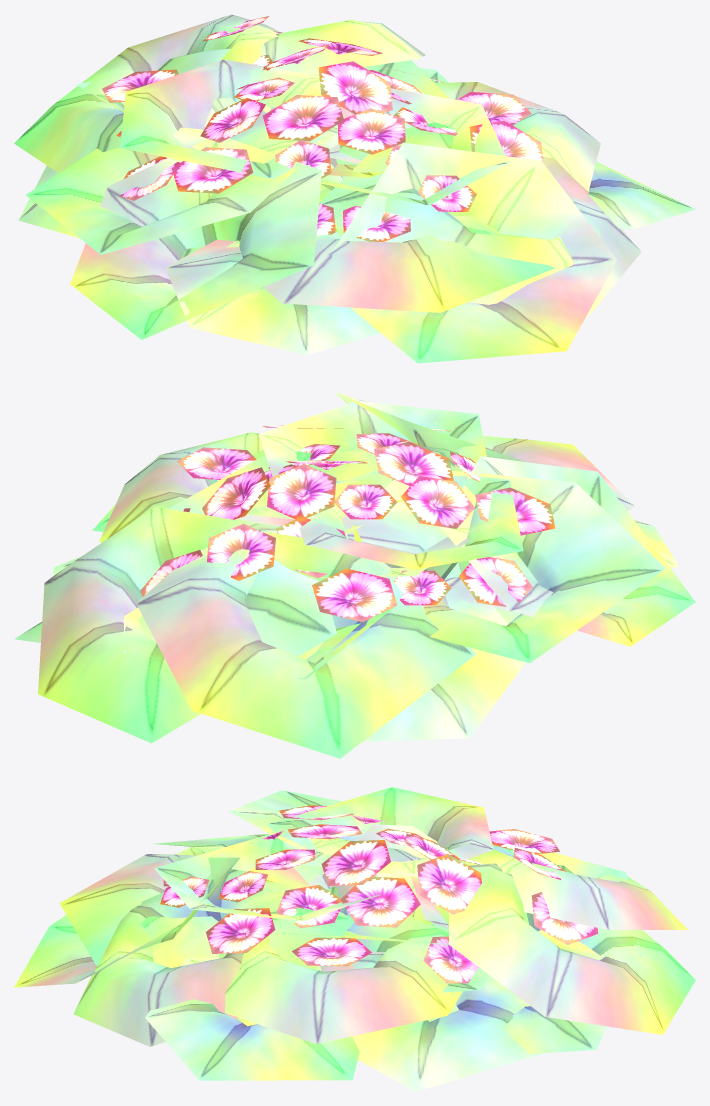
The model's file is dianthus_large_SM.fbx.
The picture shows the model from 3 angles, top to bottom: view 1: azimuth 30°, elevation 25°; view 2: azimuth 150°, elevation 25°; view 3: azimuth 270°, elevation 25°; orthographic projection. The views are drawn at different scales.
Parts seen in each view (by area): view 1: dianthus_large_SM_LOD0; view 2: dianthus_large_SM_LOD0; view 3: dianthus_large_SM_LOD0.
Boxes of the visible parts, bbox=[...] form: dianthus_large_SM_LOD0: bbox=[14, 14, 695, 363]; dianthus_large_SM_LOD0: bbox=[14, 392, 695, 758]; dianthus_large_SM_LOD0: bbox=[14, 787, 695, 1091].
Bounding box in the file's own units: 186 × 222 × 52.95.
Materials: 2 (2 with a texture image).
